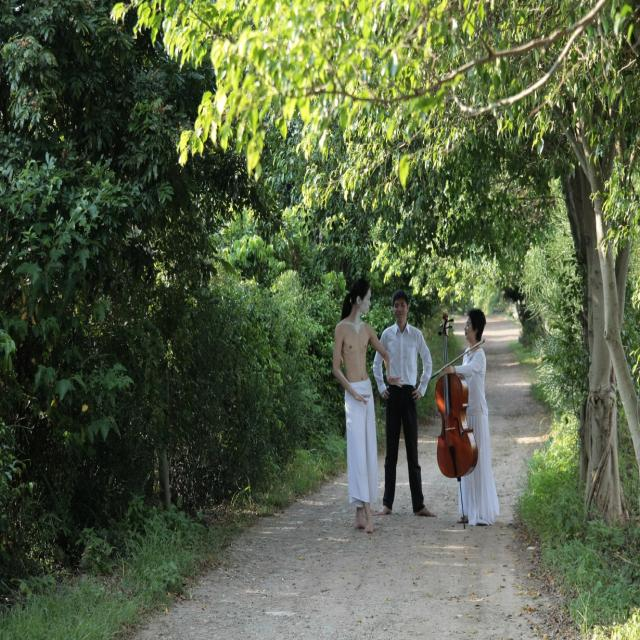cello: (433, 311, 480, 480)
